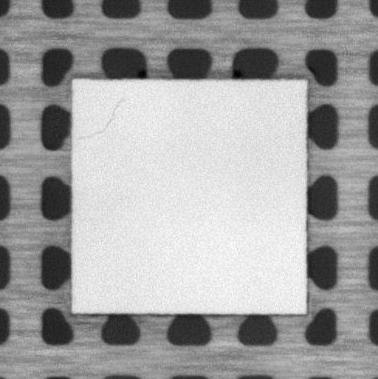DIE_CRACK: (76, 99, 123, 143)
